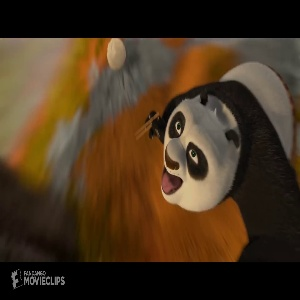po: (137, 58, 299, 262)
